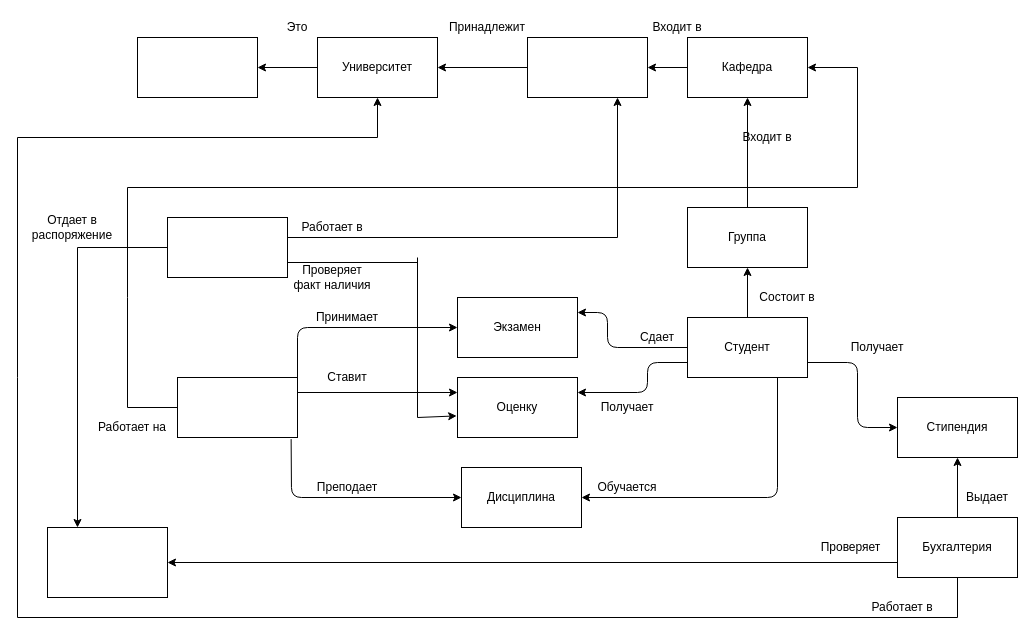
Some shapes in this 1035 by 636 pixel diagram are drawn without their labels. Each missing label, with the centre of its shape:
Ведомость: point (107, 562)
ВУЗ: point (197, 67)
Институт: point (587, 67)
Преподаватель: point (237, 407)
Руководитель деканата: point (227, 247)
